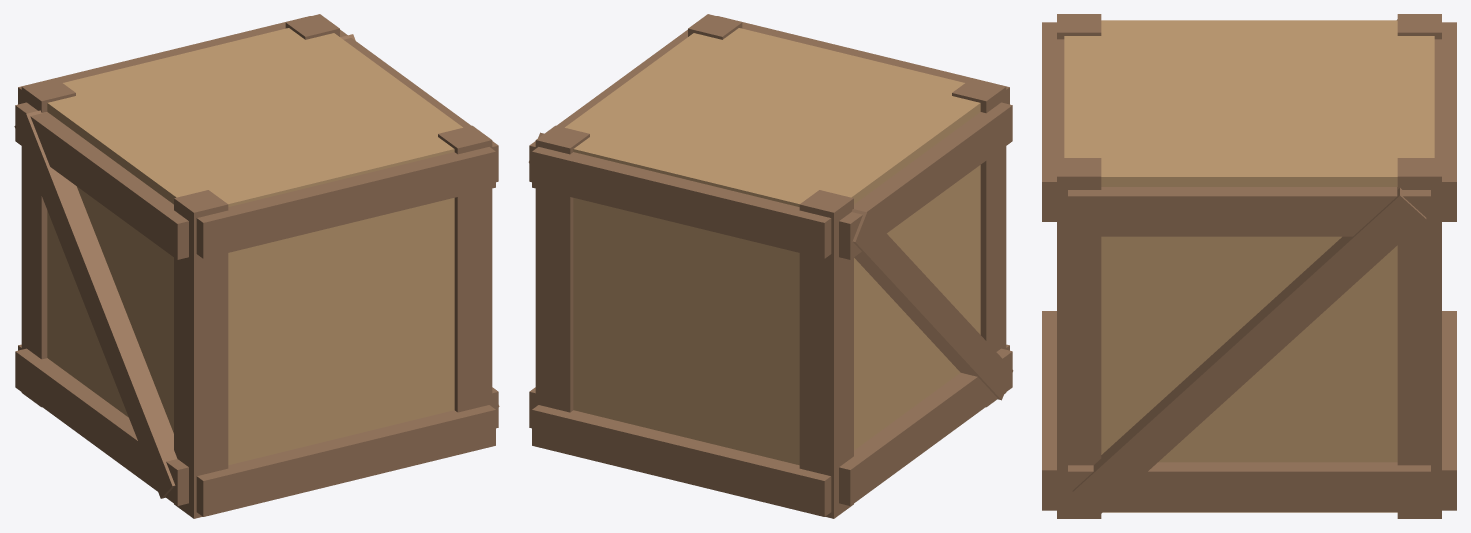
Rendered from HOB_Crate.fbx.
3 views of the same model, side by side, from view 1: azimuth 30°, elevation 25°; view 2: azimuth 150°, elevation 25°; view 3: azimuth 270°, elevation 25° (orthographic). The views are drawn at different scales.
Visible parts, largest first — view 1: HOB_Crate; view 2: HOB_Crate; view 3: HOB_Crate.
Boxes of the visible parts, box(x1,y1,x2,y2) form: HOB_Crate: box(14, 14, 499, 518); HOB_Crate: box(528, 14, 1013, 518); HOB_Crate: box(1042, 14, 1456, 518).
Size of the model in its own units: 114 by 102 by 112.
